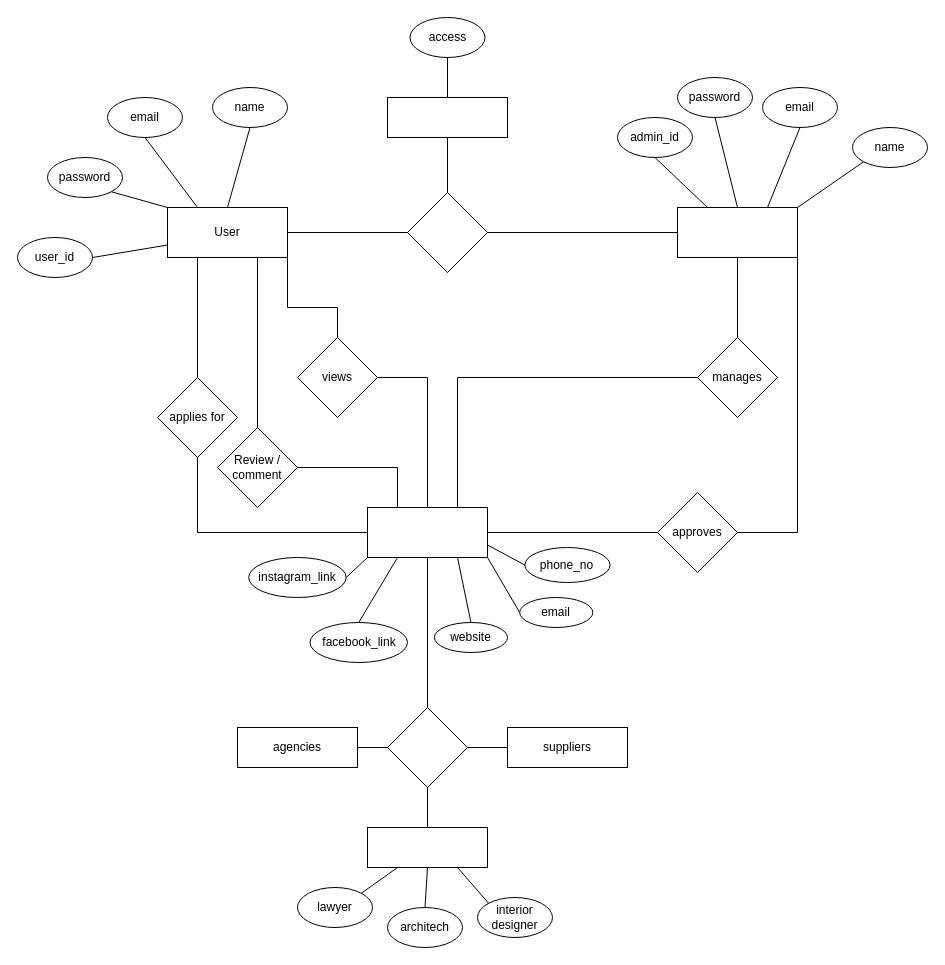
The diagram is 945 pixels wide and 965 high, and some of its shapes have lost their labels. Each missing label, with the centre of its shape:
Admin: point (737, 232)
can: point (447, 232)
Contacts: point (427, 532)
login: point (447, 117)
peoples: point (427, 847)
types: point (427, 747)
